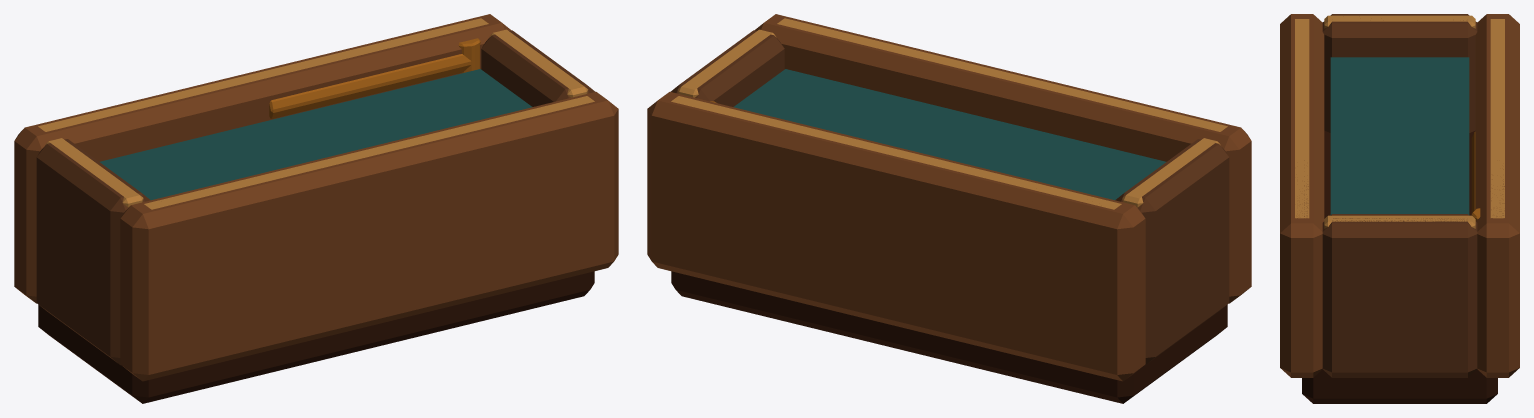
The model's file is water_trough.e2.glb.
The picture shows the model from 3 angles, left to right: view 1: azimuth 30°, elevation 25°; view 2: azimuth 150°, elevation 25°; view 3: azimuth 270°, elevation 25°; orthographic projection. The views are drawn at different scales.
Parts seen in each view (by area): view 1: WaterTroughE2; view 2: WaterTroughE2; view 3: WaterTroughE2.
Boxes of the visible parts, x1,y1,x2,y2 form: WaterTroughE2: [14, 14, 618, 403]; WaterTroughE2: [647, 14, 1251, 403]; WaterTroughE2: [1280, 14, 1519, 403].
Bounding box in the file's own units: 1.64 × 0.65 × 0.76.
Materials: 1 (1 with a texture image).
